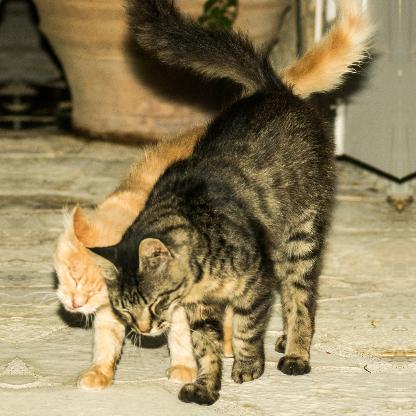Cat: (35, 0, 384, 390), (80, 0, 334, 406)
